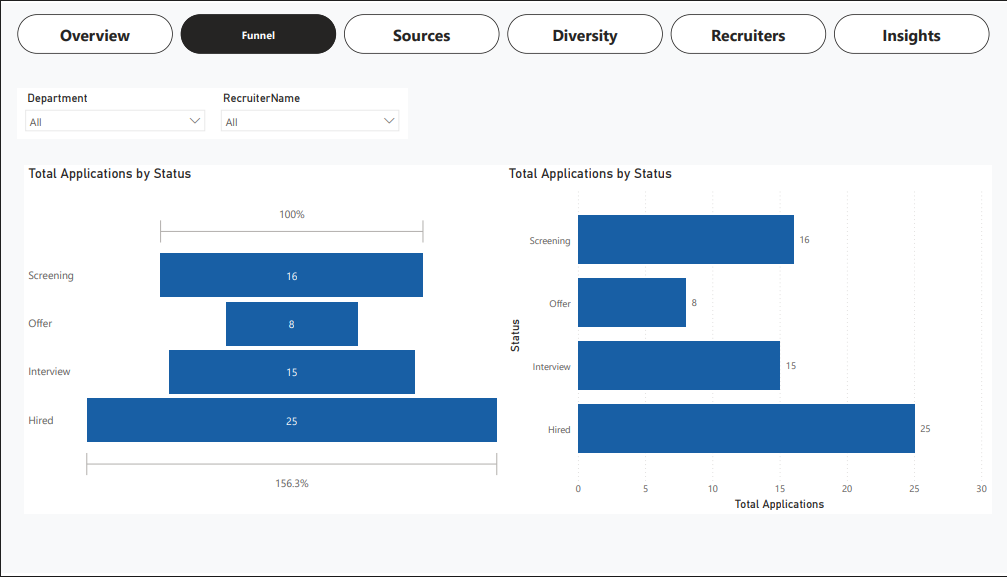

What the dashboard file says about the page in this screenshot:
{"tool":"powerbi","page":{"name":" Funnel","canvas":[1280,720],"ordinal":1},"visuals":[{"type":"funnel","fields":{"Category":["Candidates.Status"],"Y":["_Measures.Total Applications","select"]},"box":[31.4,204.3,608.6,441.4],"z":0},{"type":"clusteredBarChart","fields":{"Y":["_Measures.Total Applications"],"Category":["Candidates.Status"]},"box":[640,204.3,615.7,441.4],"z":1000},{"type":"slicer","fields":{"Values":["Candidates.Department"]},"box":[22,106,248,64],"z":2000},{"type":"slicer","fields":{"Values":["Recruiters.RecruiterName"]},"box":[270,106,246,64],"z":3000},{"type":"pageNavigator","box":[21.7,13.3,1235,50],"z":4000}]}

Visuals, with their boxes in screenshot pixels (x1, y1, x2, y2), scaled from the page's 1280x720 canvas onto the 1007x577 screenshot:
funnel - Candidates.Status x _Measures.Total Applications: bbox=[25, 164, 504, 517]
clusteredBarChart - _Measures.Total Applications x Candidates.Status: bbox=[504, 164, 988, 517]
slicer - Candidates.Department: bbox=[17, 85, 212, 136]
slicer - Recruiters.RecruiterName: bbox=[212, 85, 406, 136]
pageNavigator: bbox=[17, 11, 989, 51]
